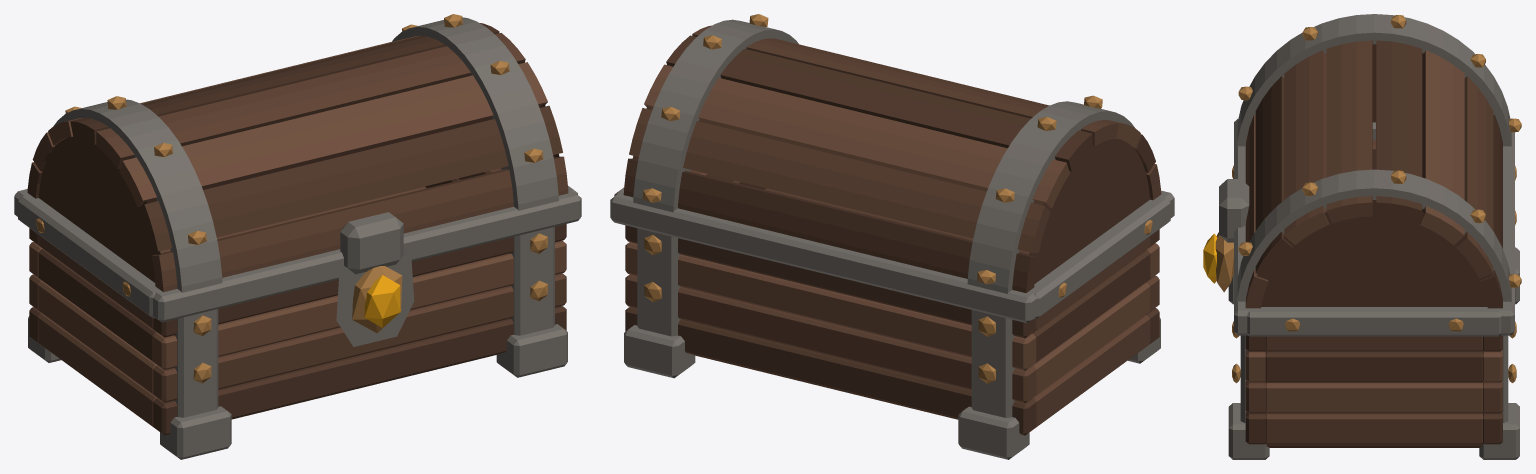
3 views of the same model, side by side, from view 1: azimuth 30°, elevation 25°; view 2: azimuth 150°, elevation 25°; view 3: azimuth 270°, elevation 25° (orthographic). The views are drawn at different scales.
Visible parts, largest first — view 1: Rootbound Hall · evaluated preview mesh; view 2: Rootbound Hall · evaluated preview mesh; view 3: Rootbound Hall · evaluated preview mesh.
Boxes of the visible parts, <box> form: Rootbound Hall · evaluated preview mesh: <box>14,14,581,459</box>; Rootbound Hall · evaluated preview mesh: <box>610,14,1174,459</box>; Rootbound Hall · evaluated preview mesh: <box>1203,14,1521,459</box>.
Size of the model in its own units: 2.78 by 1.8 by 1.87.
